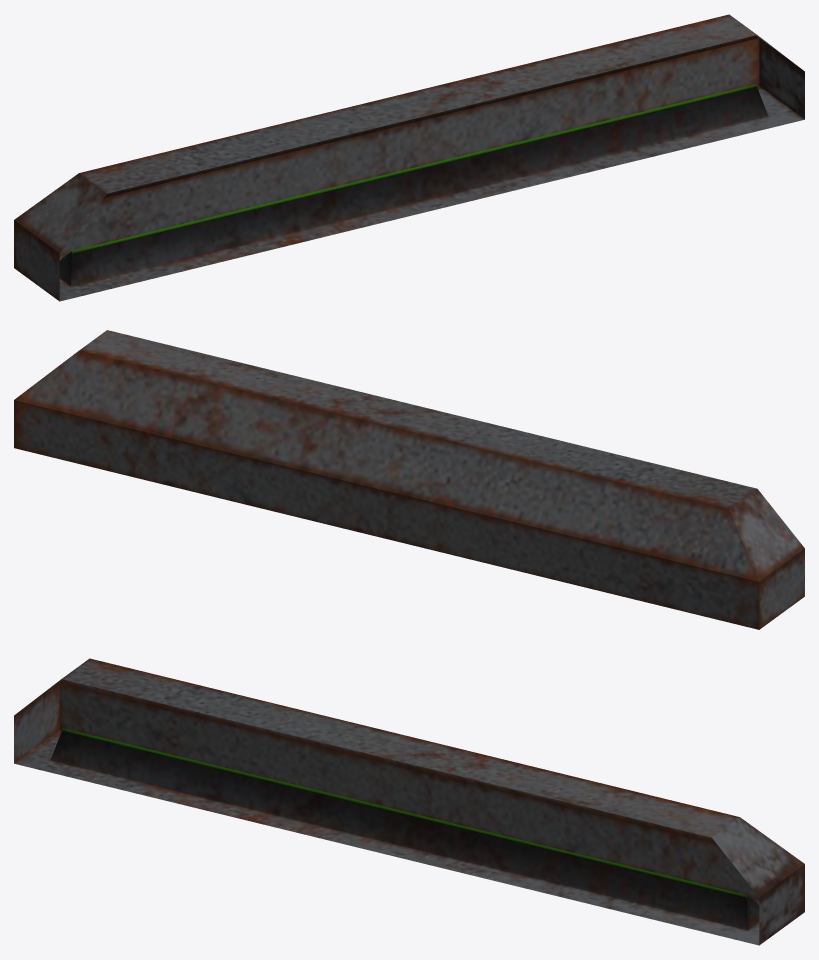
Rendered from HoloProjector.FBX.
3 renders of one model, top to bottom at view 1: azimuth 30°, elevation 25°; view 2: azimuth 150°, elevation 25°; view 3: azimuth 330°, elevation 25°, orthographic.
Parts seen in each view (by area): view 1: HoloProjector; view 2: HoloProjector; view 3: HoloProjector.
Boxes of the visible parts, x1,y1,x2,y2 form: HoloProjector: [14, 14, 804, 301]; HoloProjector: [14, 330, 804, 629]; HoloProjector: [14, 658, 804, 945].
Bounding box in the file's own units: 81.04 × 10 × 8.6.
